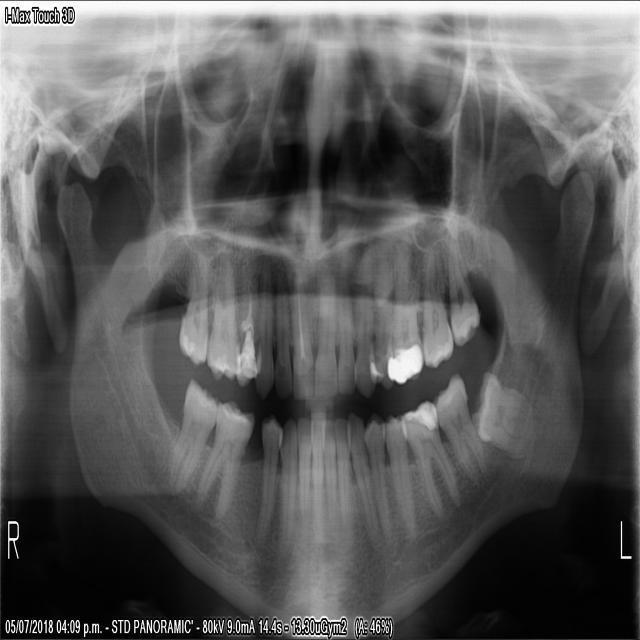LCD: (346, 415, 382, 544)
LCU: (355, 259, 377, 403)
LID: (335, 415, 358, 542), (324, 414, 341, 558)
LIU: (314, 260, 338, 400), (335, 265, 355, 398)
LMD: (402, 399, 462, 517), (434, 370, 489, 493), (475, 365, 535, 459)
LMU: (388, 249, 426, 387), (420, 242, 457, 369), (442, 229, 480, 344)
LPMD: (384, 413, 417, 535), (363, 412, 392, 540)
LPMU: (371, 259, 395, 389)
RCD: (278, 415, 298, 558)
RCU: (253, 257, 274, 400)
RID: (309, 407, 328, 548), (296, 417, 310, 550)
RIU: (289, 268, 314, 403), (273, 264, 292, 397)
RMD: (191, 398, 256, 517), (163, 379, 220, 497)
RMU: (205, 245, 240, 383), (175, 250, 209, 372)
RPMD: (254, 413, 282, 552)
RPMU: (236, 252, 261, 384)
